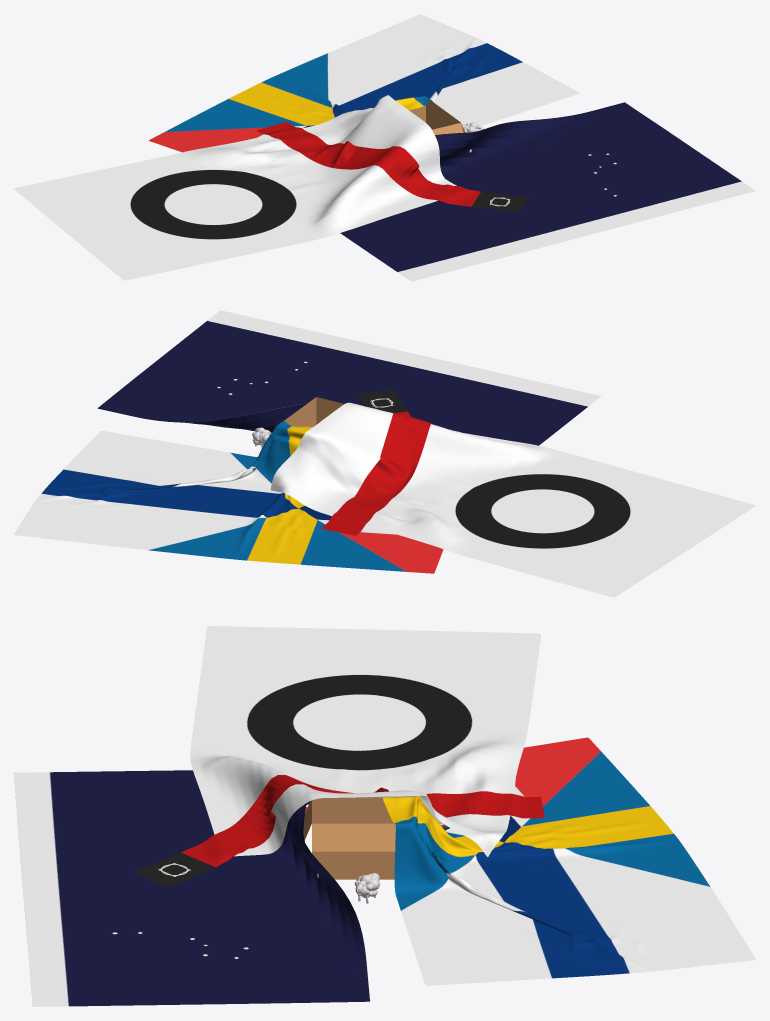
The model's file is laatikko2B.gltf.
The picture shows the model from 3 angles, top to bottom: view 1: azimuth 30°, elevation 25°; view 2: azimuth 150°, elevation 25°; view 3: azimuth 270°, elevation 25°; orthographic projection. The views are drawn at different scales.
Parts seen in each view (by area): view 1: flag01.001, flag01.002, flag01, Plane, laatikko; view 2: flag01.001, flag01.002, flag01, Plane, laatikko; view 3: flag01.002, flag01.001, flag01, Plane, laatikko.
Part boxes in pixels (left/top/right/bottom): flag01.001: left=14, top=95, right=456, bottom=280; flag01.002: left=340, top=102, right=755, bottom=281; flag01: left=148, top=14, right=579, bottom=152; Plane: left=256, top=122, right=528, bottom=211; laatikko: left=409, top=100, right=465, bottom=134; flag01.001: left=270, top=402, right=755, bottom=597; flag01.002: left=97, top=310, right=601, bottom=445; flag01: left=14, top=421, right=443, bottom=573; Plane: left=321, top=390, right=431, bottom=535; laatikko: left=284, top=397, right=344, bottom=426; flag01.002: left=14, top=770, right=370, bottom=1006; flag01.001: left=190, top=626, right=540, bottom=856; flag01: left=305, top=737, right=755, bottom=985; Plane: left=133, top=775, right=544, bottom=887; laatikko: left=303, top=797, right=395, bottom=879.
Size of the model in its own units: 28.94 by 2.24 by 23.98.
7 materials, 4 textured.
